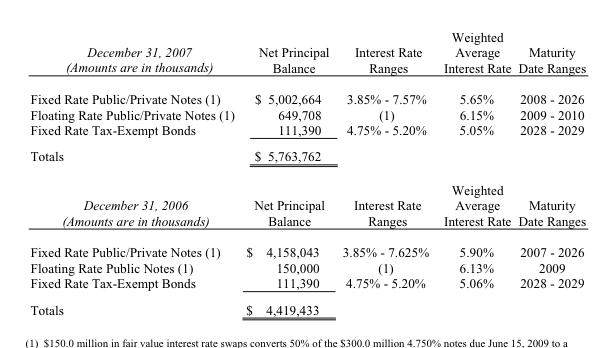table: (29, 29, 585, 316)
table column: (29, 29, 239, 316), (335, 29, 435, 316), (239, 29, 335, 316), (435, 29, 514, 316), (514, 29, 585, 316)
table column header: (29, 29, 585, 83)
table row: (29, 172, 585, 236), (29, 29, 585, 83), (29, 142, 585, 172), (29, 83, 585, 106), (29, 236, 585, 259), (29, 275, 585, 296), (29, 122, 585, 142), (29, 296, 585, 316), (29, 106, 585, 122), (29, 259, 585, 275)
